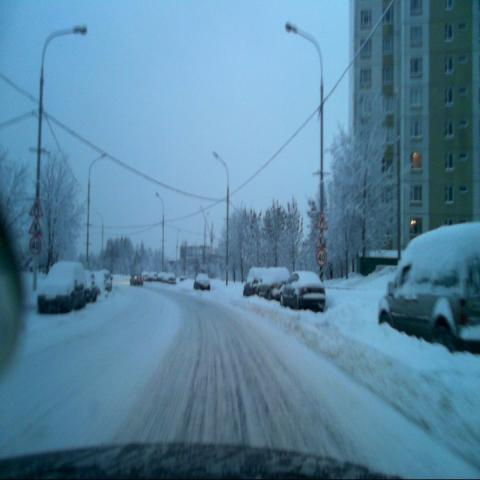1_20: (28, 196, 42, 216), (316, 210, 330, 229)
